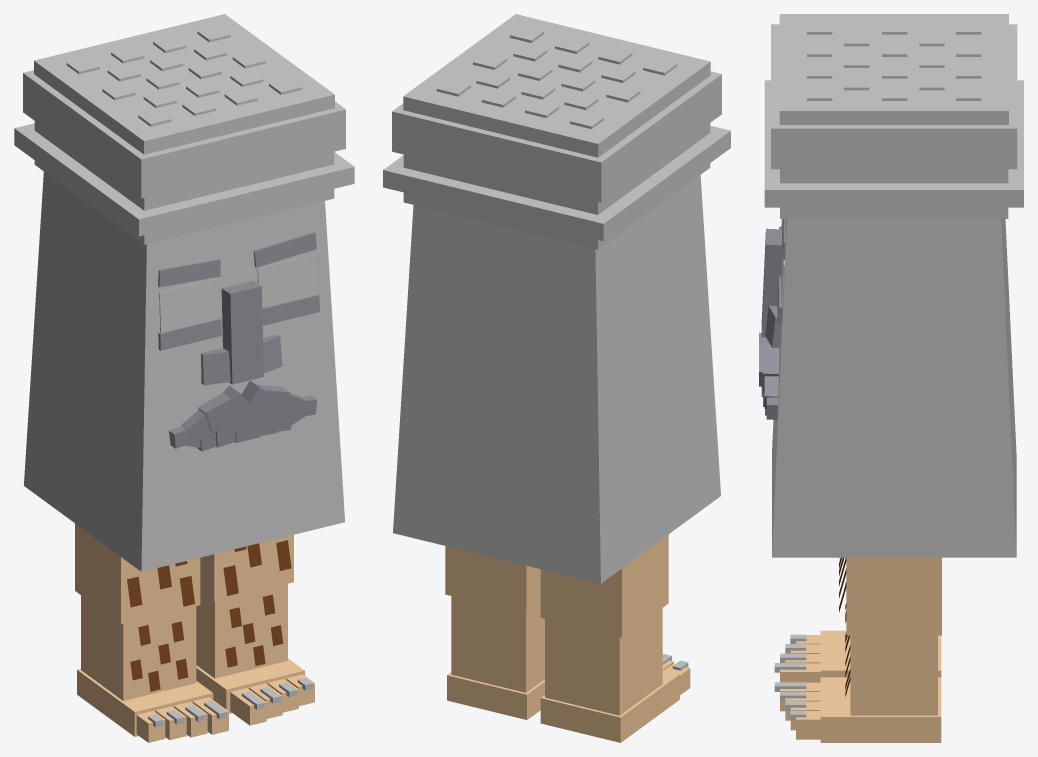
3 views of the same model, side by side, from view 1: azimuth 30°, elevation 25°; view 2: azimuth 150°, elevation 25°; view 3: azimuth 270°, elevation 25° (orthographic). The views are drawn at different scales.
Parts seen in each view (by area): view 1: Pack 9.004; view 2: Pack 9.004; view 3: Pack 9.004.
Boxes of the visible parts, box(x1,y1,x2,y2) form: Pack 9.004: box(14, 14, 354, 742); Pack 9.004: box(383, 14, 730, 742); Pack 9.004: box(759, 14, 1023, 742).
Bounding box in the file's own units: 131 × 357 × 134.
